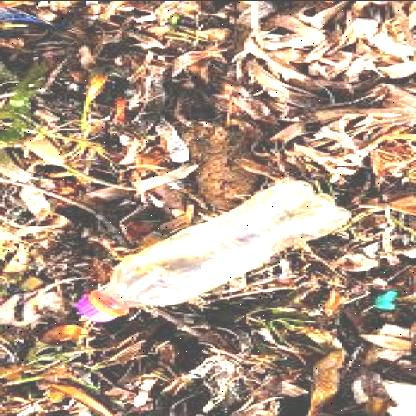Plastic Bottle: (75, 179, 351, 321)
